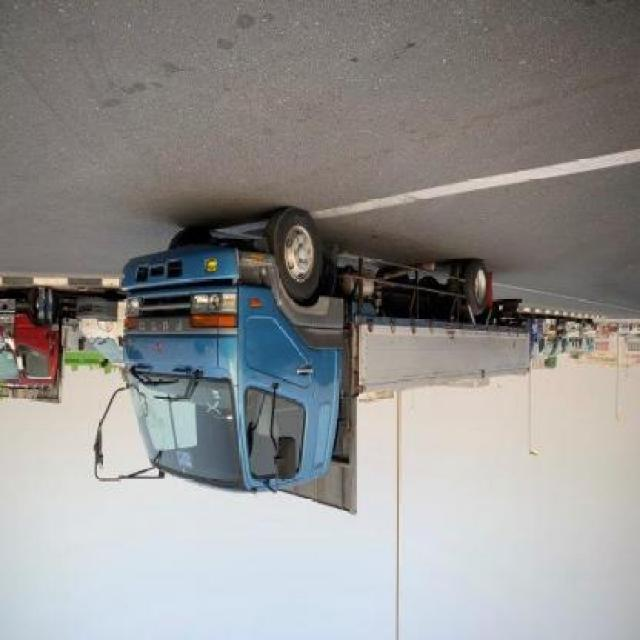truck: (95, 207, 536, 523)
